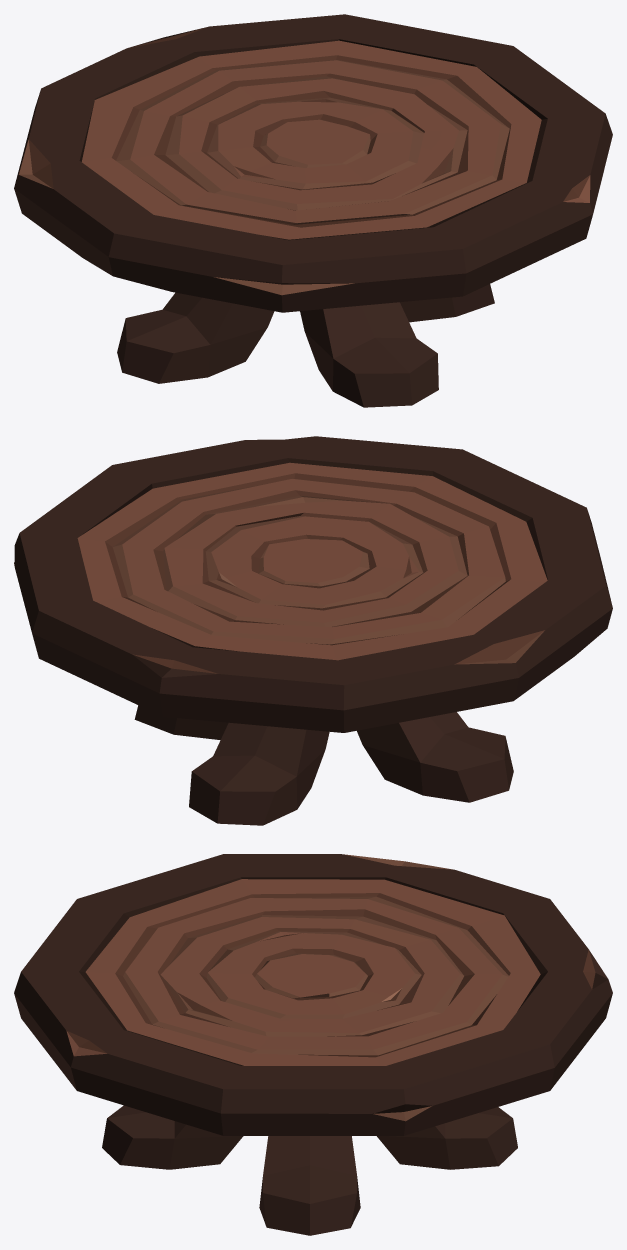
Rendered from WoodRoundTable_01.glb.
3 renders of one model, top to bottom at view 1: azimuth 30°, elevation 25°; view 2: azimuth 150°, elevation 25°; view 3: azimuth 270°, elevation 25°, orthographic. The views are drawn at different scales.
Visible parts, largest first — view 1: WoodRoundTable_01; view 2: WoodRoundTable_01; view 3: WoodRoundTable_01.
Part boxes in pixels (left/top/right/bottom): WoodRoundTable_01: left=14, top=14, right=612, bottom=407; WoodRoundTable_01: left=14, top=436, right=612, bottom=825; WoodRoundTable_01: left=14, top=854, right=612, bottom=1235.
Size of what is drawn, in the model's own units: 2.21 by 0.7741 by 2.32.
Materials: 1 (1 with a texture image).
